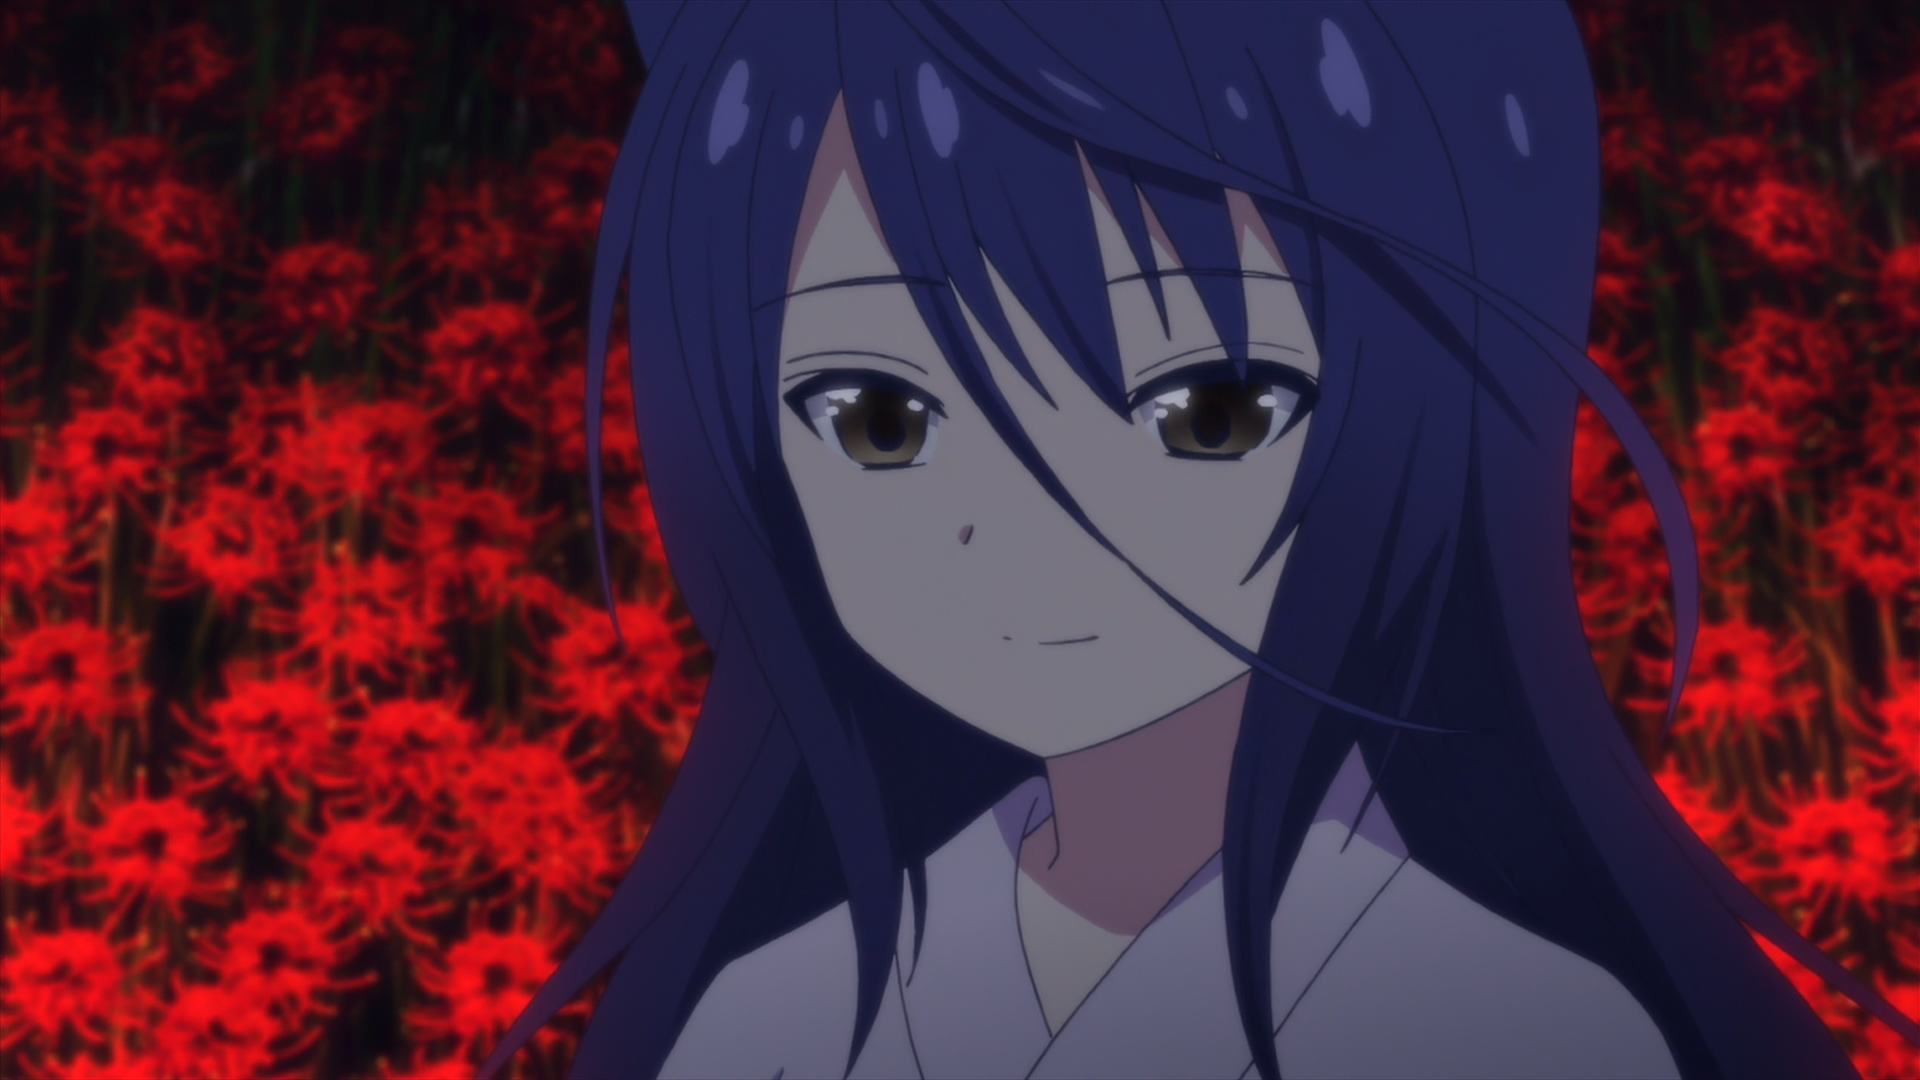皋: (476, 1, 1920, 1080)
